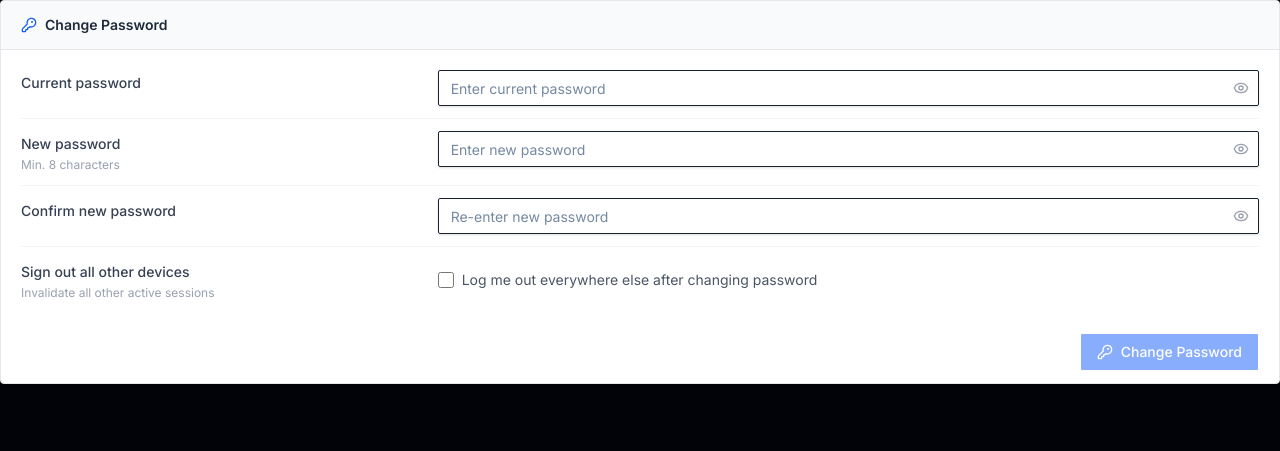
Test case: ChangePasswordSection — wrong current password › displays a fallback message when the server returns an error without a message
This screenshot has width=1280, height=451.
In the password field with placeholder "Enter current password": (848,88) left=438, top=70, right=1259, bottom=106, type "wrong-password"
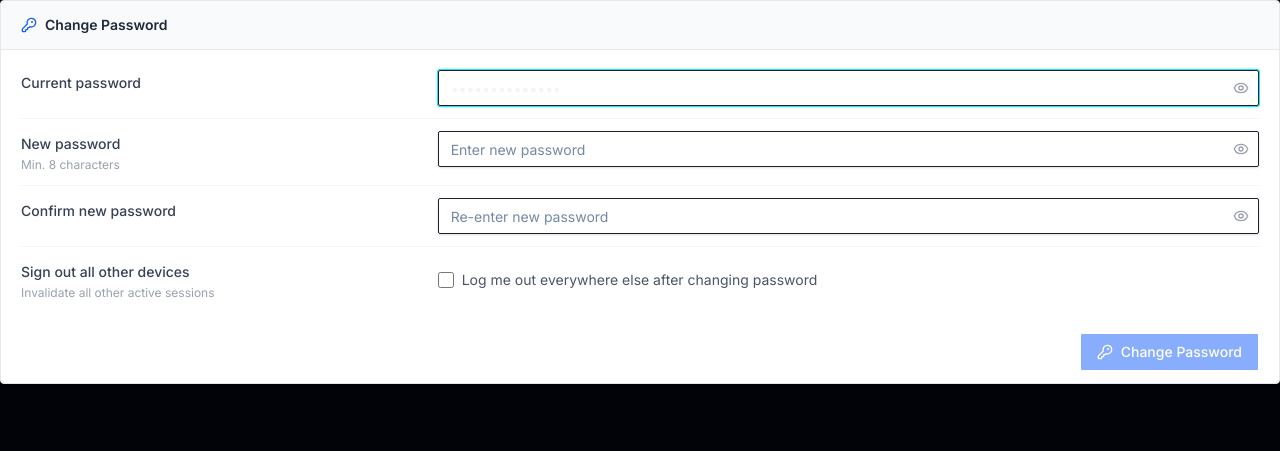
In the password field with placeholder "Enter new password": (848,149) left=438, top=131, right=1259, bottom=167, type "NewValid1!"
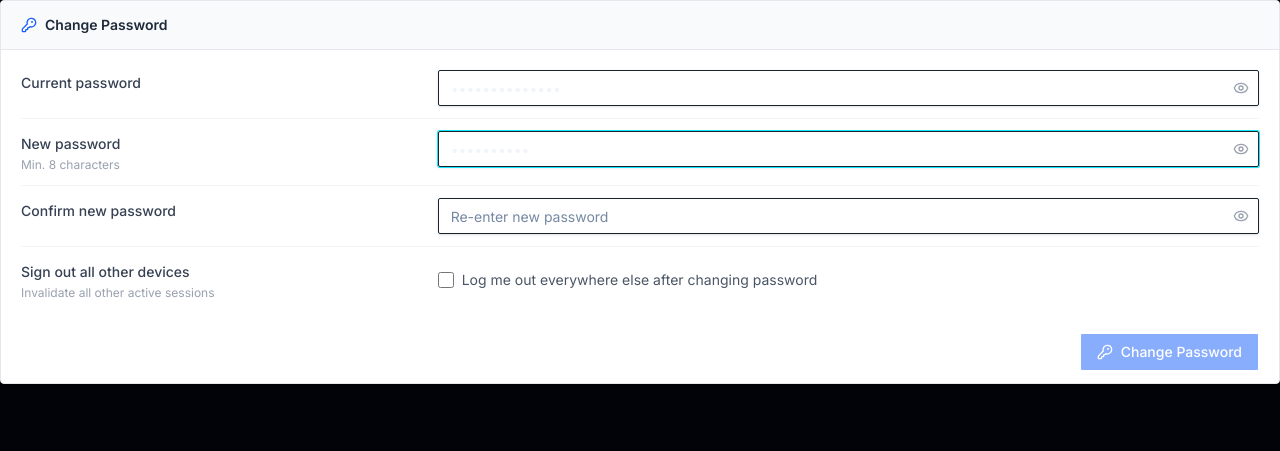
In the password field with placeholder "Re-enter new password": (848,216) left=438, top=198, right=1259, bottom=234, type "NewValid1!"
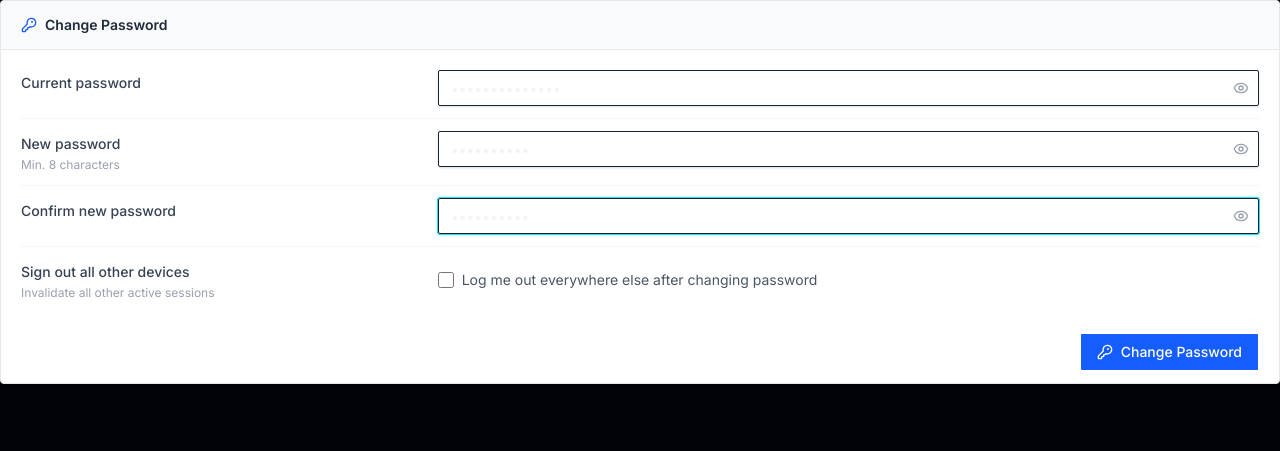
Click the button "Change Password": (1169,352) left=1080, top=333, right=1259, bottom=371
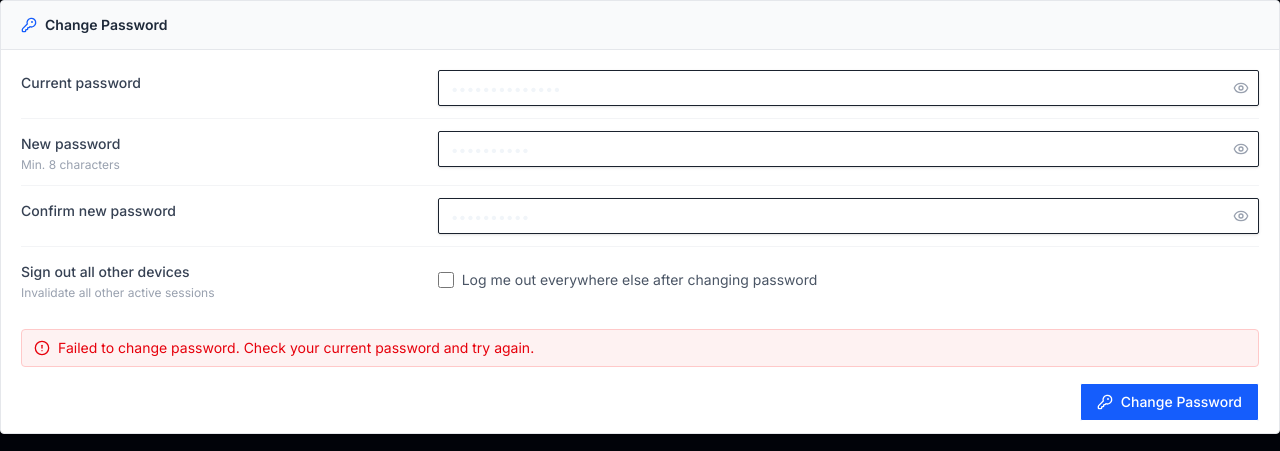
Expected: the message reads "Failed to change password. Check your current password and try again.", left=58, top=339, right=534, bottom=356
